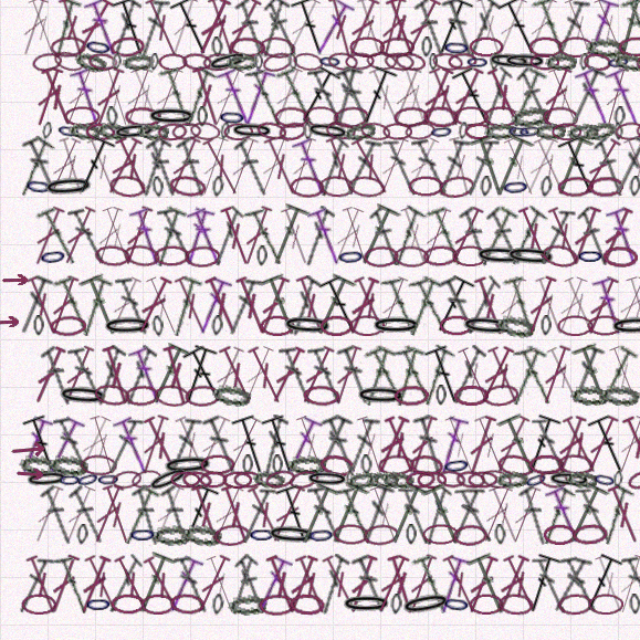chain: (131, 455, 174, 486), (361, 570, 410, 597), (38, 195, 86, 217), (456, 258, 504, 280), (416, 321, 464, 343), (51, 384, 99, 406), (146, 447, 194, 469), (240, 510, 288, 532), (186, 80, 228, 105), (254, 321, 302, 342), (429, 258, 476, 279), (92, 322, 139, 342), (551, 322, 598, 342), (321, 385, 368, 405), (461, 130, 498, 155), (132, 133, 179, 152), (335, 322, 382, 341), (308, 574, 355, 593), (448, 320, 485, 344), (489, 256, 524, 281), (191, 383, 228, 406), (449, 446, 484, 470), (101, 146, 142, 166), (276, 146, 317, 166), (396, 194, 430, 218), (288, 446, 322, 470), (98, 194, 133, 217), (152, 194, 187, 217), (111, 257, 146, 280), (84, 383, 119, 406), (17, 447, 53, 469), (44, 447, 80, 469), (165, 510, 201, 532), (206, 573, 242, 595), (436, 383, 470, 406), (440, 83, 481, 102), (22, 461, 63, 480), (314, 195, 349, 217), (543, 384, 579, 405), (234, 69, 268, 91), (139, 384, 173, 406), (193, 510, 227, 532), (526, 144, 558, 167), (301, 132, 334, 154), (328, 510, 361, 532), (495, 462, 535, 480), (566, 459, 596, 483), (45, 69, 79, 90), (504, 447, 538, 468), (47, 81, 78, 104), (66, 82, 98, 104), (370, 447, 402, 469), (530, 70, 565, 90), (138, 511, 173, 531), (99, 69, 132, 90), (382, 132, 415, 153), (288, 195, 321, 216), (85, 258, 118, 279), (382, 258, 415, 279), (517, 510, 550, 531), (153, 573, 186, 594), (261, 573, 294, 594), (450, 573, 483, 594), (504, 573, 537, 594), (310, 145, 341, 167), (455, 84, 495, 101), (112, 133, 146, 153), (208, 147, 248, 164), (72, 448, 106, 468), (276, 462, 316, 479), (516, 385, 551, 404), (260, 448, 295, 467), (207, 70, 240, 90), (236, 82, 266, 104), (504, 196, 537, 216), (328, 259, 361, 279), (45, 322, 78, 342), (112, 385, 145, 405), (274, 385, 307, 405), (342, 448, 375, 468), (260, 460, 290, 482), (409, 511, 442, 531), (234, 574, 267, 594), (75, 68, 103, 91), (343, 70, 375, 90), (248, 133, 280, 153), (356, 133, 388, 153), (491, 133, 523, 153), (262, 196, 294, 216), (532, 196, 564, 216), (167, 259, 199, 279), (356, 259, 388, 279), (545, 259, 577, 279), (167, 385, 199, 405), (356, 385, 388, 405), (356, 82, 386, 103), (434, 460, 464, 481), (58, 133, 91, 152), (274, 133, 307, 152), (369, 196, 402, 215), (139, 259, 172, 278), (409, 259, 442, 278), (504, 322, 537, 341), (531, 322, 564, 341), (301, 511, 334, 530), (382, 511, 415, 530), (554, 83, 585, 103), (512, 146, 543, 166), (313, 461, 344, 481), (34, 258, 62, 280), (399, 447, 427, 469), (231, 145, 260, 166), (118, 460, 147, 481), (239, 460, 268, 481), (316, 70, 348, 89), (424, 70, 456, 89), (478, 70, 510, 89), (505, 70, 537, 89), (559, 70, 591, 89), (410, 133, 442, 152), (437, 133, 469, 152), (235, 322, 267, 341), (316, 322, 348, 341), (397, 322, 429, 341), (410, 385, 442, 404), (181, 448, 213, 467), (478, 448, 510, 467), (19, 574, 51, 593), (100, 574, 132, 593), (127, 574, 159, 593), (424, 574, 456, 593), (532, 574, 564, 593), (390, 83, 420, 103), (289, 322, 320, 341), (491, 511, 522, 530), (251, 145, 279, 166), (21, 195, 49, 216), (399, 573, 427, 594), (28, 83, 57, 103), (264, 83, 293, 103), (325, 146, 354, 166), (100, 461, 129, 481), (472, 460, 498, 482), (87, 146, 117, 165), (228, 461, 258, 480), (171, 146, 200, 165), (110, 84, 140, 102), (204, 84, 234, 102), (453, 196, 480, 216), (304, 259, 331, 279), (345, 462, 375, 480), (277, 511, 304, 531), (296, 83, 324, 102), (331, 83, 359, 102), (347, 83, 375, 102), (294, 146, 322, 165), (366, 146, 394, 165), (366, 461, 394, 480), (394, 461, 422, 480), (67, 460, 92, 481), (575, 147, 604, 165), (400, 70, 426, 90), (197, 133, 223, 153), (448, 462, 478, 479), (79, 84, 107, 102), (164, 84, 192, 102), (183, 84, 211, 102), (575, 84, 603, 102), (142, 147, 170, 165), (155, 147, 183, 165), (164, 462, 192, 480), (412, 462, 440, 480), (487, 462, 515, 480), (521, 259, 547, 278), (116, 511, 142, 530), (224, 511, 250, 530), (76, 574, 102, 593), (62, 147, 91, 164), (438, 147, 467, 164), (483, 147, 512, 164), (512, 462, 541, 479), (527, 84, 554, 102), (535, 461, 559, 481), (556, 147, 584, 164), (493, 85, 522, 101), (124, 148, 153, 164), (332, 463, 361, 479), (312, 84, 339, 101), (405, 84, 432, 101), (50, 146, 74, 165), (143, 85, 170, 101), (479, 85, 506, 101), (77, 148, 104, 164), (202, 148, 229, 164), (346, 148, 373, 164), (499, 148, 526, 164), (154, 463, 181, 479), (201, 463, 228, 479), (211, 463, 238, 479), (377, 463, 404, 479), (423, 463, 450, 479), (420, 148, 446, 164), (180, 463, 206, 479), (548, 84, 571, 102), (388, 147, 411, 165), (458, 147, 481, 165), (287, 84, 310, 101), (468, 147, 491, 164), (87, 462, 109, 479), (421, 85, 443, 101), (52, 463, 74, 479), (137, 196, 149, 216), (191, 196, 203, 216), (488, 196, 500, 216), (137, 322, 149, 342), (191, 574, 203, 594), (191, 70, 202, 89), (96, 133, 107, 152), (555, 133, 566, 152), (434, 196, 445, 215), (569, 196, 580, 215), (191, 322, 202, 341), (326, 448, 337, 467), (69, 511, 80, 530), (447, 511, 458, 530), (353, 574, 364, 593), (569, 574, 580, 593), (381, 70, 391, 89), (178, 133, 188, 152), (232, 259, 242, 278), (30, 322, 40, 341), (489, 322, 499, 341), (394, 385, 404, 404), (219, 448, 229, 467), (246, 448, 256, 467), (367, 511, 377, 530), (37, 147, 48, 164), (198, 147, 209, 164), (414, 147, 424, 164), (260, 85, 270, 101), (554, 463, 564, 479), (101, 85, 110, 101), (135, 85, 144, 101), (443, 85, 452, 101), (524, 85, 533, 101), (274, 148, 283, 164), (555, 148, 564, 164), (313, 463, 322, 479), (230, 85, 238, 101), (388, 85, 396, 101)
double: (264, 95, 310, 154), (407, 95, 452, 154), (164, 347, 209, 406), (507, 473, 552, 532), (279, 284, 323, 344), (449, 410, 493, 470), (152, 32, 196, 91), (449, 32, 493, 91), (319, 221, 363, 280), (287, 284, 331, 343), (387, 284, 431, 343), (130, 347, 174, 406), (441, 158, 484, 218), (265, 473, 308, 533), (292, 472, 335, 532), (346, 473, 389, 533), (381, 473, 424, 533), (422, 536, 465, 596), (63, 158, 106, 217), (503, 158, 546, 217), (71, 284, 114, 343), (530, 410, 573, 469), (522, 536, 565, 595), (388, 32, 430, 91), (496, 158, 538, 217), (239, 221, 281, 280), (234, 284, 276, 343), (158, 473, 200, 532), (118, 536, 160, 595), (63, 33, 106, 90), (314, 159, 357, 216), (427, 222, 470, 279), (535, 348, 578, 405), (31, 222, 73, 280), (455, 222, 497, 280), (369, 285, 411, 343), (328, 348, 370, 406), (104, 474, 146, 532), (320, 95, 361, 154), (517, 347, 558, 406), (522, 160, 565, 216), (455, 96, 496, 154), (220, 222, 261, 280), (455, 348, 496, 406), (424, 158, 464, 217), (383, 347, 423, 406), (19, 410, 59, 469), (280, 34, 322, 90), (126, 538, 168, 594), (199, 33, 240, 90), (361, 33, 402, 90), (91, 159, 132, 216), (118, 285, 159, 342), (126, 411, 167, 468), (220, 474, 261, 531), (288, 537, 329, 594), (248, 96, 288, 154), (11, 159, 51, 217), (356, 348, 396, 406), (464, 348, 504, 406), (100, 32, 139, 91), (262, 32, 301, 91), (159, 347, 198, 406), (208, 410, 247, 469), (235, 410, 274, 469), (470, 410, 509, 469), (248, 473, 287, 532), (180, 160, 221, 216), (173, 33, 213, 90), (254, 33, 294, 90), (38, 159, 78, 216), (100, 159, 140, 216), (478, 159, 518, 216), (551, 159, 591, 216), (92, 285, 132, 342), (194, 348, 234, 405), (240, 348, 280, 405), (429, 348, 469, 405), (38, 411, 78, 468), (200, 411, 240, 468), (443, 411, 483, 468), (505, 411, 545, 468), (240, 474, 280, 531), (100, 537, 140, 594), (451, 537, 491, 594), (221, 96, 260, 154), (451, 159, 490, 217), (362, 285, 401, 343), (437, 348, 476, 406), (559, 411, 598, 469), (186, 474, 225, 532), (471, 536, 509, 595), (302, 96, 341, 153), (402, 96, 441, 153), (437, 96, 476, 153), (19, 159, 58, 216), (235, 159, 274, 216), (362, 159, 401, 216), (470, 159, 509, 216), (402, 222, 441, 279), (154, 285, 193, 342), (181, 285, 220, 342), (316, 285, 355, 342), (397, 285, 436, 342), (551, 285, 590, 342), (221, 348, 260, 405), (267, 348, 306, 405), (410, 348, 449, 405), (491, 348, 530, 405), (65, 411, 104, 468), (154, 411, 193, 468), (173, 411, 212, 468), (254, 411, 293, 468), (335, 411, 374, 468), (73, 537, 112, 594), (173, 537, 212, 594), (227, 537, 266, 594), (335, 537, 374, 594), (397, 537, 436, 594), (309, 33, 347, 91), (560, 33, 598, 91), (160, 96, 198, 154), (187, 96, 225, 154), (376, 96, 414, 154), (384, 96, 422, 154), (74, 159, 112, 217), (560, 159, 598, 217), (295, 222, 333, 280), (349, 222, 387, 280), (384, 222, 422, 280), (47, 285, 85, 343), (309, 285, 347, 343), (344, 285, 382, 343), (525, 285, 563, 343), (52, 474, 90, 532), (303, 474, 341, 532), (484, 474, 522, 532), (47, 537, 85, 595), (66, 537, 104, 595), (263, 537, 301, 595), (371, 537, 409, 595), (552, 32, 589, 91), (128, 33, 166, 90), (114, 96, 152, 153), (330, 96, 368, 153), (511, 96, 549, 153), (546, 96, 584, 153), (147, 159, 185, 216), (52, 222, 90, 279), (492, 222, 530, 279), (538, 222, 576, 279), (128, 285, 166, 342), (506, 285, 544, 342), (25, 348, 63, 405), (187, 348, 225, 405), (101, 411, 139, 468), (182, 411, 220, 468), (282, 411, 320, 468), (525, 411, 563, 468), (133, 474, 171, 531), (430, 474, 468, 531), (492, 474, 530, 531), (147, 537, 185, 594), (317, 537, 355, 594), (444, 537, 482, 594), (506, 33, 543, 91), (133, 96, 170, 154), (25, 222, 62, 280), (133, 222, 170, 280), (66, 285, 103, 343), (425, 285, 462, 343), (498, 285, 535, 343), (322, 348, 359, 406), (376, 348, 413, 406), (498, 411, 535, 469), (330, 474, 367, 532), (457, 474, 494, 532), (20, 537, 57, 595), (182, 537, 219, 595), (255, 537, 292, 595), (417, 537, 454, 595), (497, 538, 536, 593), (444, 33, 481, 90), (471, 33, 508, 90), (533, 33, 570, 90), (33, 96, 70, 153), (195, 96, 232, 153), (349, 96, 386, 153), (492, 96, 529, 153), (519, 96, 556, 153), (263, 159, 300, 216), (168, 222, 205, 279), (465, 222, 502, 279), (20, 285, 57, 342), (174, 285, 211, 342), (209, 285, 246, 342), (52, 348, 89, 405), (214, 348, 251, 405), (290, 411, 327, 468), (344, 411, 381, 468), (398, 411, 435, 468), (425, 411, 462, 468), (25, 474, 62, 531), (79, 474, 116, 531), (438, 474, 475, 531), (546, 474, 583, 531), (236, 34, 274, 89), (465, 97, 503, 152), (438, 223, 476, 278), (417, 286, 455, 341), (403, 349, 441, 404), (60, 475, 98, 530), (93, 538, 131, 593), (21, 33, 57, 91), (345, 33, 381, 91), (480, 33, 516, 91), (80, 96, 116, 154), (202, 159, 238, 217), (148, 285, 184, 343), (539, 474, 575, 532), (417, 34, 454, 90), (309, 160, 346, 216), (75, 33, 111, 90), (53, 96, 89, 153), (242, 96, 278, 153), (485, 96, 521, 153), (229, 159, 265, 216), (291, 159, 327, 216), (337, 159, 373, 216), (88, 222, 124, 279), (277, 222, 313, 279), (13, 285, 49, 342), (229, 285, 265, 342), (337, 285, 373, 342), (115, 348, 151, 405), (304, 348, 340, 405), (512, 348, 548, 405), (547, 348, 583, 405), (13, 411, 49, 468), (237, 537, 273, 594), (534, 537, 570, 594), (411, 475, 448, 530), (40, 33, 75, 91), (26, 96, 61, 154), (142, 96, 177, 154), (445, 285, 480, 343), (350, 348, 385, 406), (418, 411, 453, 469), (210, 160, 246, 216), (61, 223, 97, 279), (485, 223, 521, 279), (107, 349, 143, 405), (94, 412, 130, 468), (13, 538, 49, 594), (399, 33, 434, 90), (526, 33, 561, 90), (107, 96, 142, 153), (215, 96, 250, 153), (107, 222, 142, 279), (196, 222, 231, 279), (215, 222, 250, 279), (250, 222, 285, 279), (358, 222, 393, 279), (377, 222, 412, 279), (512, 222, 547, 279), (547, 222, 582, 279), (40, 285, 75, 342), (264, 285, 299, 342), (472, 285, 507, 342), (480, 285, 515, 342), (485, 348, 520, 405), (264, 411, 299, 468), (553, 411, 588, 468), (169, 474, 204, 531), (196, 474, 231, 531), (323, 474, 358, 531), (40, 537, 75, 594), (310, 537, 345, 594), (364, 537, 399, 594), (520, 475, 556, 530), (454, 285, 488, 343), (562, 285, 596, 343), (319, 411, 353, 469), (346, 537, 380, 595), (372, 160, 407, 216), (142, 223, 177, 279), (269, 223, 304, 279), (520, 223, 555, 279), (61, 349, 96, 405), (48, 412, 83, 468), (215, 475, 250, 531), (210, 538, 245, 594), (507, 538, 542, 594), (14, 33, 48, 90), (149, 33, 183, 90), (184, 33, 218, 90), (62, 96, 96, 153), (170, 96, 204, 153), (359, 96, 393, 153), (176, 159, 210, 216), (81, 222, 115, 279), (116, 222, 150, 279), (305, 222, 339, 279), (297, 348, 331, 405), (122, 411, 156, 468), (365, 411, 399, 468), (89, 474, 123, 531), (392, 537, 426, 594), (49, 33, 82, 91), (95, 34, 129, 90), (373, 34, 407, 90), (500, 34, 534, 90), (278, 97, 312, 153), (122, 160, 156, 216), (130, 160, 164, 216), (346, 160, 380, 216), (392, 160, 426, 216), (535, 160, 569, 216), (332, 223, 366, 279), (203, 286, 237, 342), (257, 286, 291, 342), (35, 349, 69, 405), (81, 349, 115, 405), (149, 412, 183, 468), (481, 412, 515, 468), (35, 475, 69, 531), (405, 475, 439, 531), (481, 538, 515, 594), (562, 538, 596, 594), (319, 33, 352, 90), (427, 33, 460, 90), (89, 96, 122, 153), (49, 159, 82, 216), (257, 159, 290, 216), (162, 222, 195, 279), (535, 285, 568, 342), (89, 348, 122, 405), (373, 411, 406, 468), (392, 411, 425, 468), (554, 537, 587, 594), (339, 33, 371, 91), (211, 34, 244, 90), (230, 34, 263, 90), (419, 160, 452, 216), (189, 223, 222, 279), (278, 349, 311, 405), (311, 412, 344, 468), (278, 475, 311, 531), (157, 538, 190, 594), (284, 538, 317, 594), (541, 96, 573, 153), (77, 411, 109, 468), (433, 97, 465, 153), (158, 160, 190, 216), (285, 160, 317, 216), (414, 223, 446, 279), (104, 286, 136, 342), (252, 349, 284, 405), (293, 33, 324, 90), (298, 96, 329, 153), (144, 348, 175, 405), (123, 34, 154, 90), (231, 412, 262, 468), (144, 475, 175, 531), (360, 475, 391, 531), (468, 475, 499, 531), (204, 538, 235, 594), (402, 159, 432, 216), (118, 475, 148, 531), (380, 475, 410, 531)
noise: (9, 436, 43, 452), (14, 460, 41, 471), (1, 285, 27, 295), (0, 323, 19, 333)
